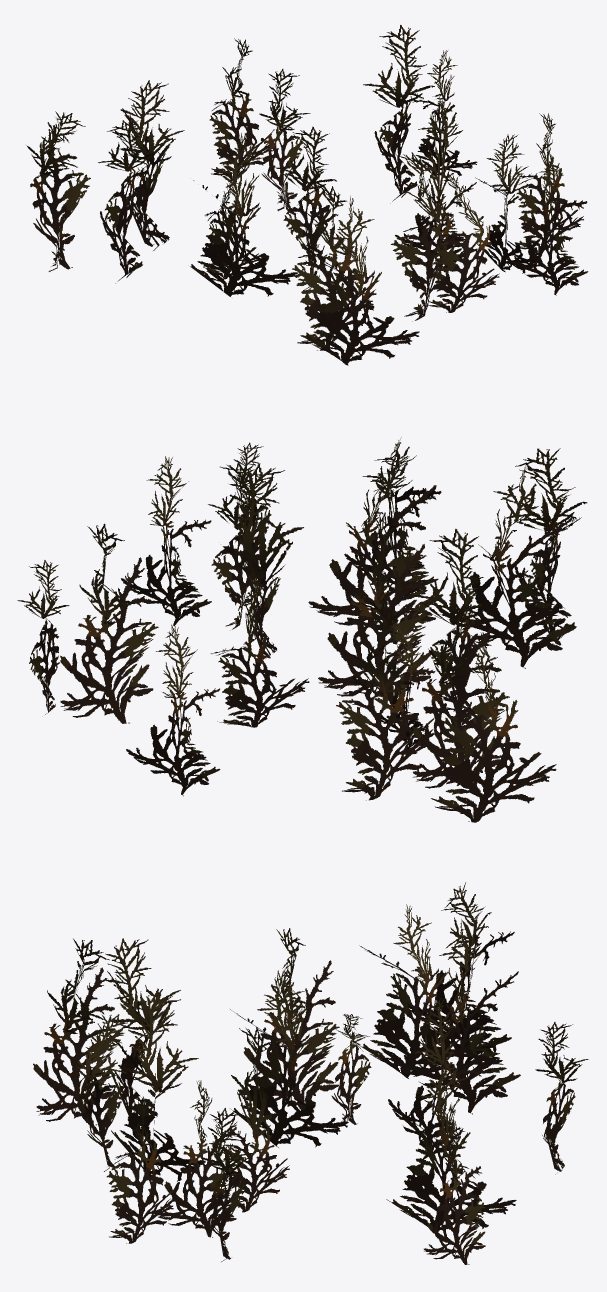
Rendered from Brown Algae 2_preview_3DS_simplified.glb.
The picture shows the model from 3 angles, top to bottom: view 1: azimuth 30°, elevation 25°; view 2: azimuth 150°, elevation 25°; view 3: azimuth 270°, elevation 25°; orthographic projection. The views are drawn at different scales.
Visible parts, largest first — view 1: Marine Park Empire model; view 2: Marine Park Empire model; view 3: Marine Park Empire model.
Boxes of the visible parts, x1,y1,x2,y2 form: Marine Park Empire model: (26, 25, 588, 365); Marine Park Empire model: (17, 437, 587, 822); Marine Park Empire model: (33, 882, 588, 1264).
Bounding box in the file's own units: 124 × 46.13 × 120.
Materials: 1 (1 with a texture image).
